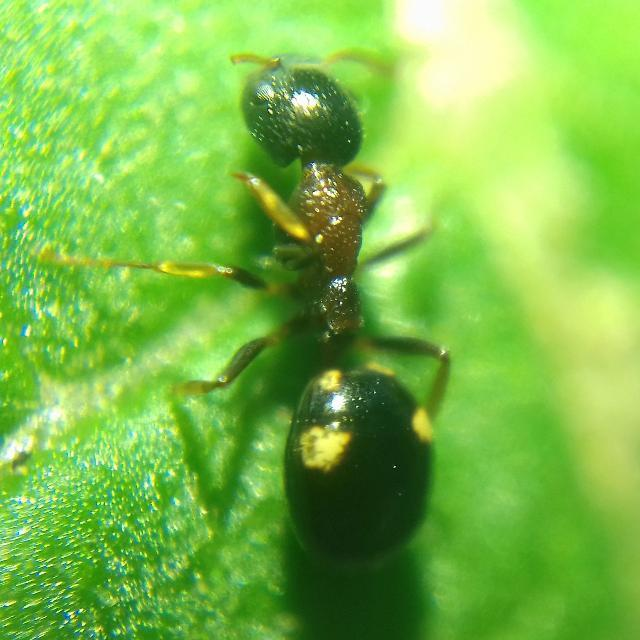Dolichoderus: (168, 9, 520, 576)
